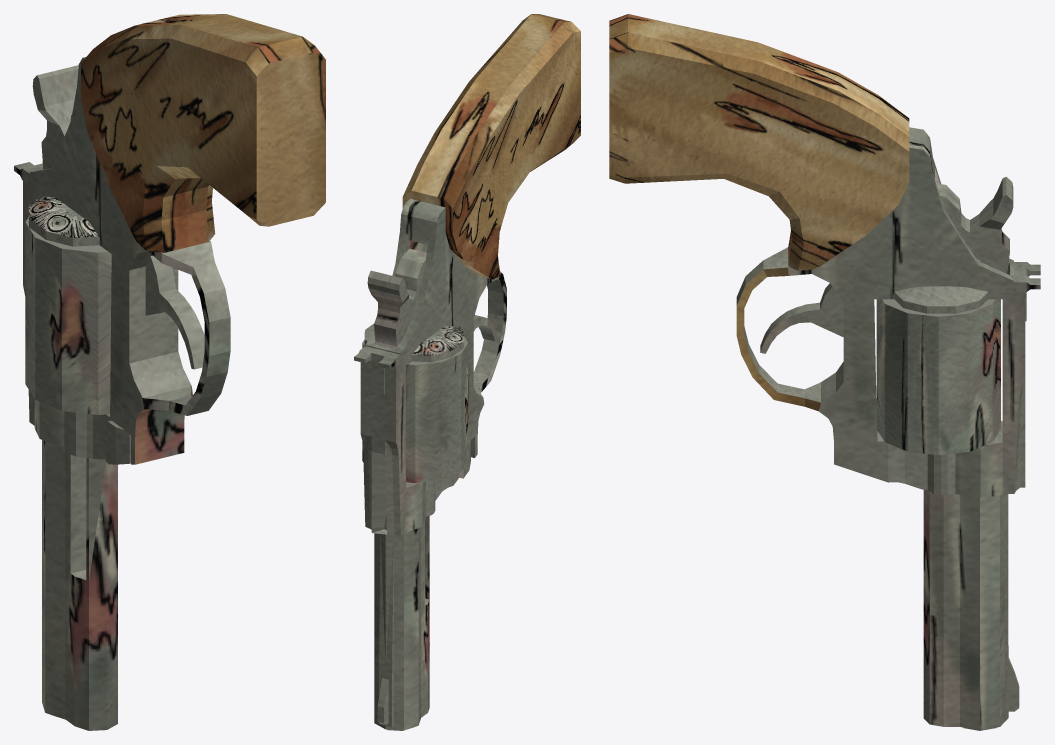
File: Revolver.glb
3 renders of one model, left to right at view 1: azimuth 30°, elevation 25°; view 2: azimuth 150°, elevation 25°; view 3: azimuth 270°, elevation 25°, orthographic. The views are drawn at different scales.
Parts seen in each view (by area): view 1: Revolver; view 2: Revolver; view 3: Revolver.
Boxes of the visible parts, x1,y1,x2,y2 form: Revolver: (14, 14, 325, 730); Revolver: (354, 14, 580, 730); Revolver: (609, 14, 1040, 730).
Size of the model in its own units: 0.067 by 0.4156 by 0.2326.
Materials: 1 (1 with a texture image).
